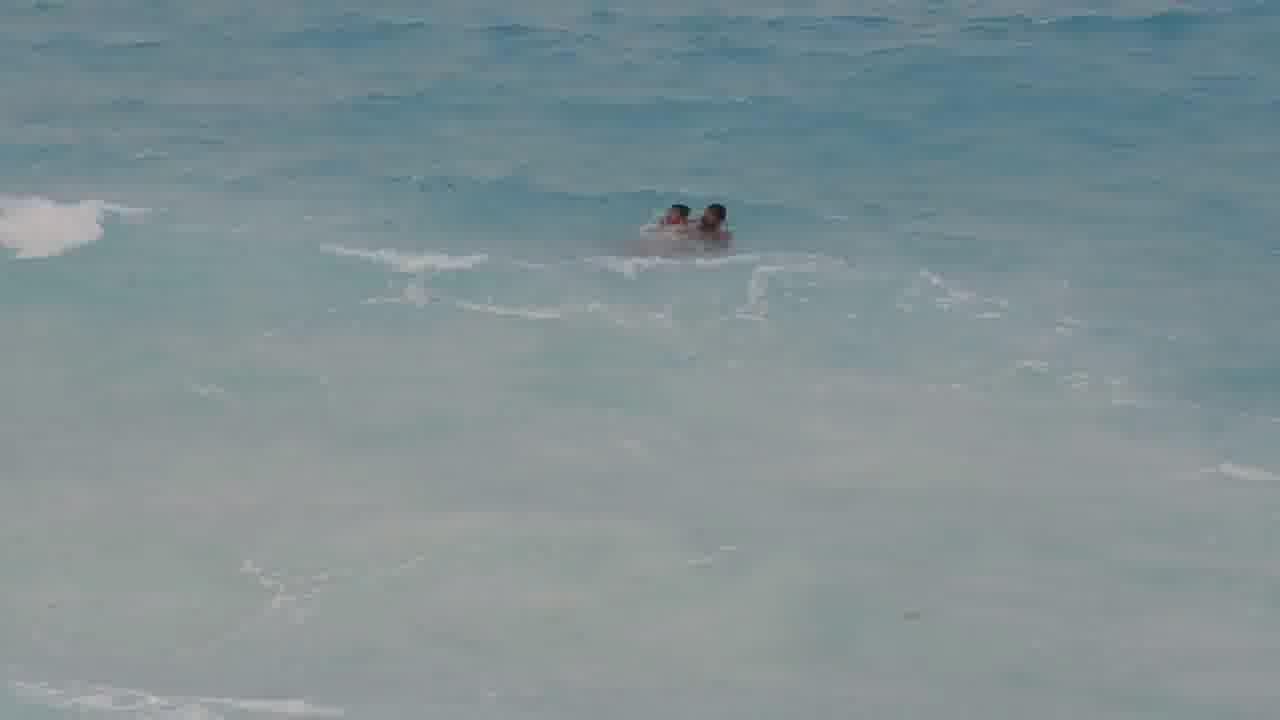human: (658, 199, 691, 229), (699, 200, 726, 235)
